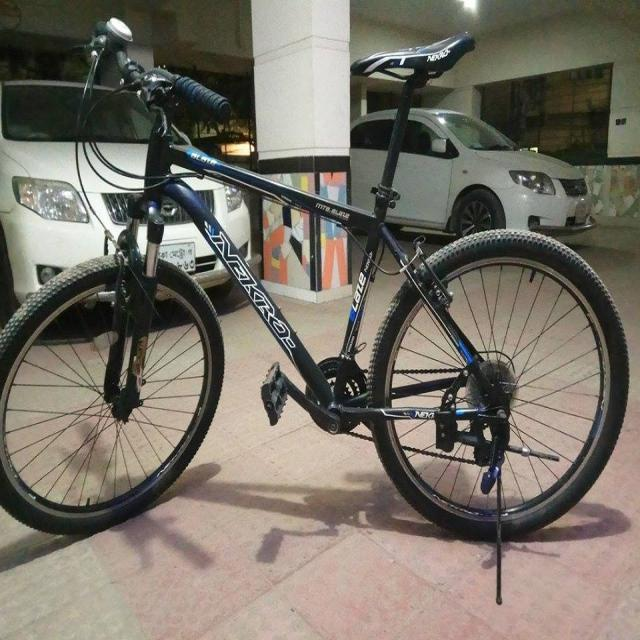Bicycle: (3, 12, 637, 620)
